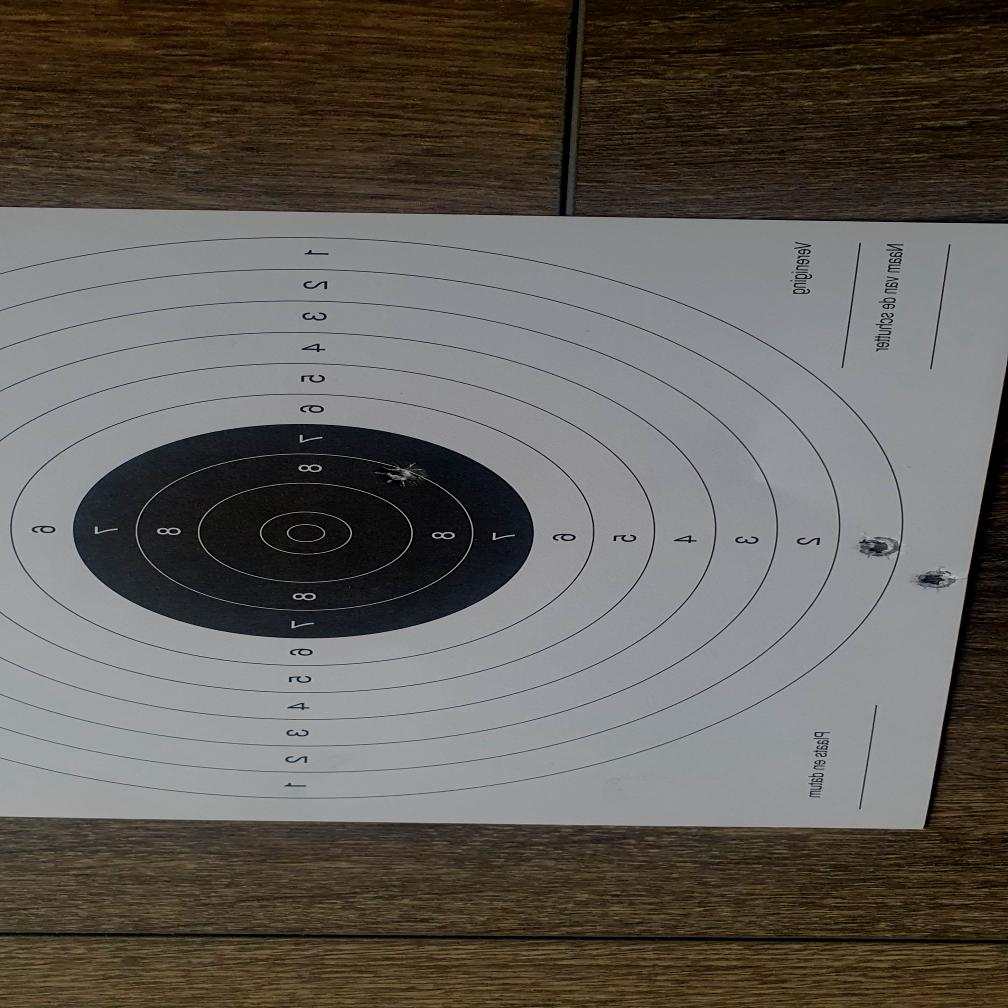0: (904, 563, 966, 592)
1: (851, 536, 908, 557)
8: (369, 461, 432, 486)
Target: (0, 236, 906, 800)
black_contour: (74, 425, 535, 641)
